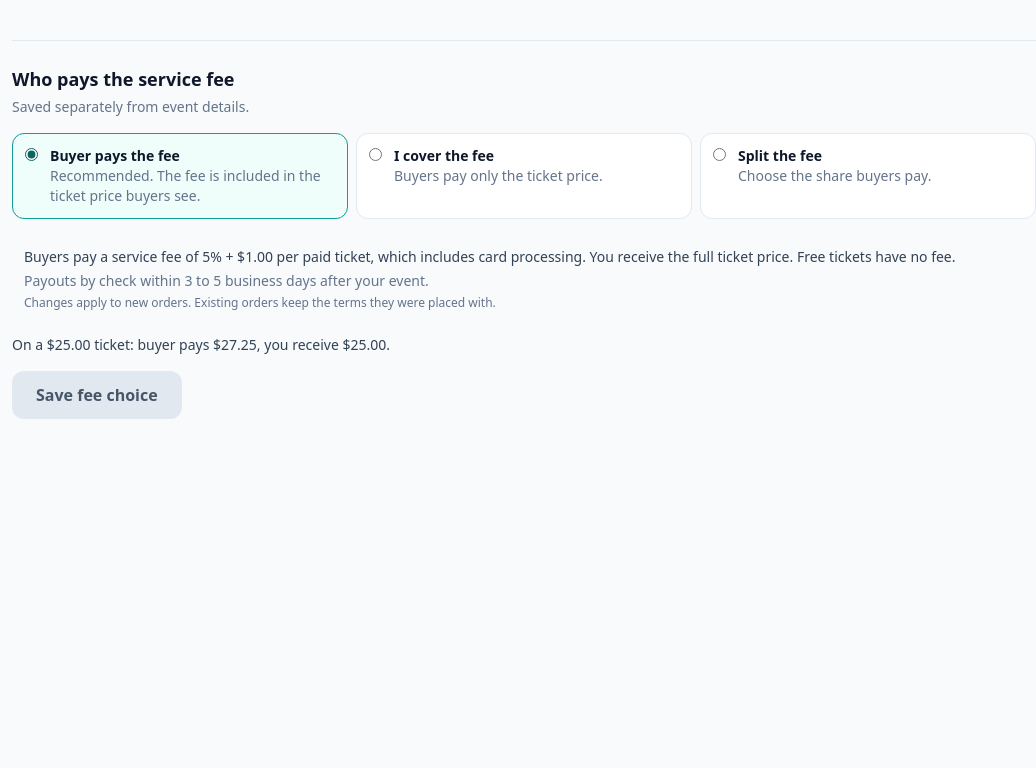
Scenario: FeePolicyPanel › saves the choice through the event update API and reports it applies to new orders
The image size is (1036, 768).
Expected: the text "On a $25.00 ticket: buyer pays $27.25, you receive $25.00." is shown, [12, 335, 390, 354]
Expected: the button "Save fee choice" is disabled, [12, 371, 182, 419]
Click the radio button labelled "Split the fee Choose the share buyers pay." at (720, 154), box [713, 148, 726, 161]
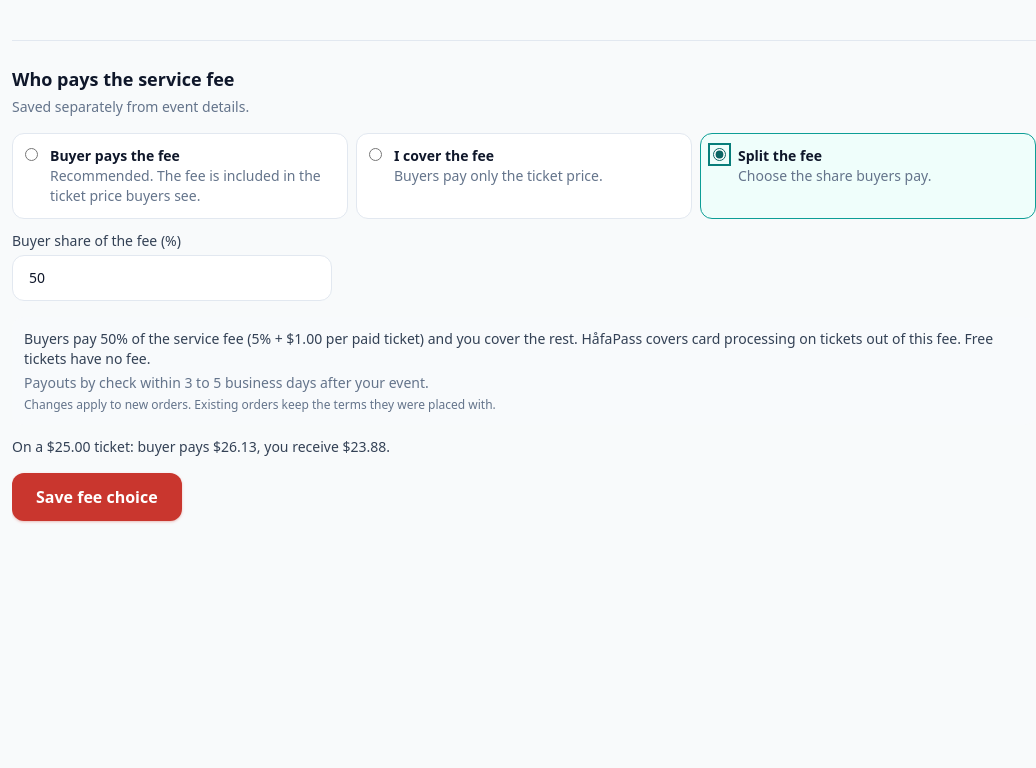
Replace the text in the number field labelled "Buyer share of the fee (%)" with "40" at (172, 278), box [12, 255, 332, 301]
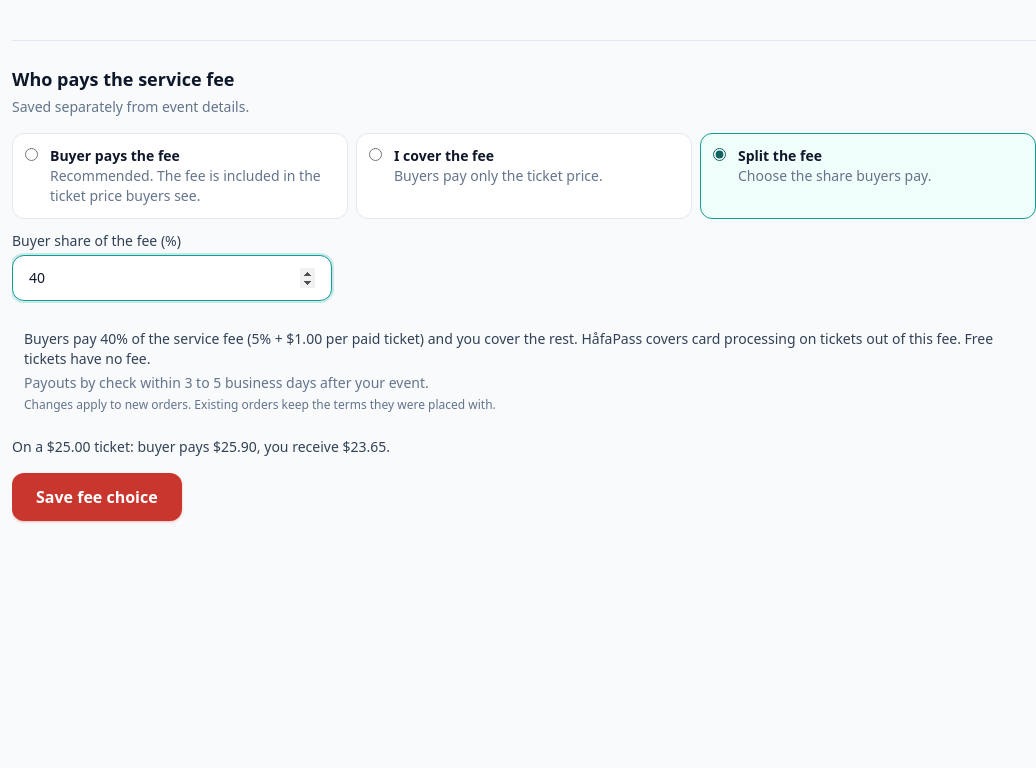
Click the button "Save fee choice" at (97, 497), box [12, 473, 182, 521]
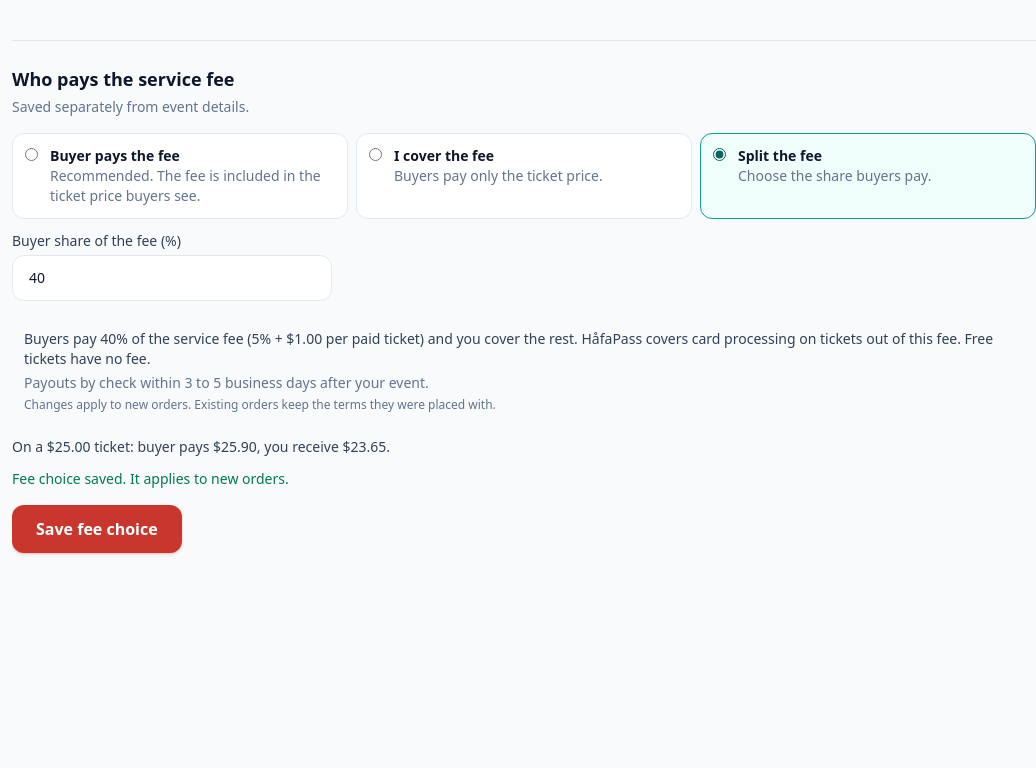
Now the message reads "Fee choice saved. It applies to new orders.", box [12, 469, 289, 488]
